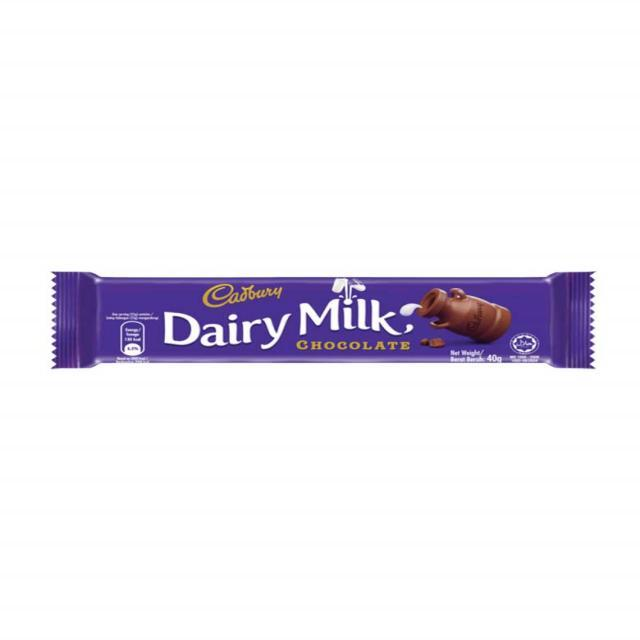cadbury_chocolate: (40, 268, 592, 384)
